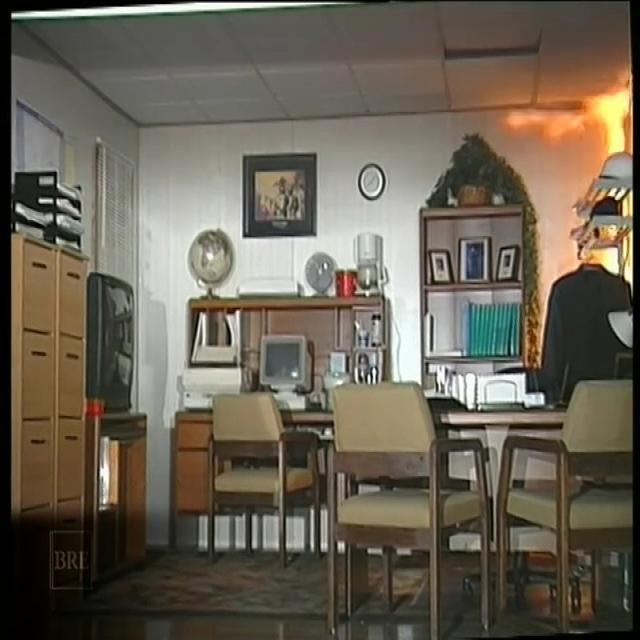Fire: (503, 52, 640, 212)
